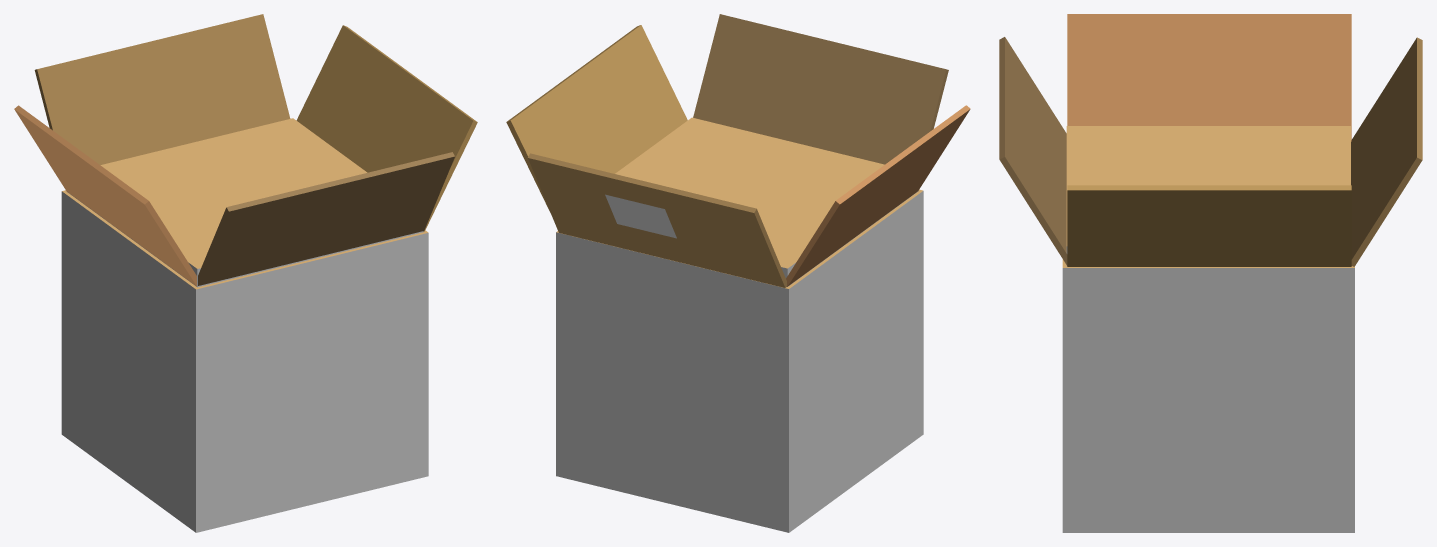
File: boxukrop.fbx
The picture shows the model from 3 angles, left to right: view 1: azimuth 30°, elevation 25°; view 2: azimuth 150°, elevation 25°; view 3: azimuth 270°, elevation 25°; orthographic projection. The views are drawn at different scales.
Visible parts, largest first — view 1: Cube, Куб.003, Cube.001, Куб.002, Куб, Куб.001; view 2: Cube, Куб.002, Cube.001, Куб.003, Куб, Куб.001, Плоскость; view 3: Cube, Куб.001, Куб, Cube.001, Куб.003, Куб.002.
Boxes of the visible parts, x1,y1,x2,y2 form: Cube: (61, 190, 428, 532); Куб.003: (34, 14, 290, 164); Cube.001: (67, 118, 423, 287); Куб.002: (198, 152, 454, 285); Куб: (296, 25, 477, 231); Куб.001: (14, 105, 196, 286); Cube: (556, 189, 923, 532); Куб.002: (693, 14, 948, 164); Cube.001: (615, 117, 918, 286); Куб.003: (528, 153, 786, 287); Куб: (506, 25, 687, 212); Куб.001: (786, 105, 970, 286); Плоскость: (605, 194, 676, 238); Cube: (1062, 259, 1354, 532); Куб.001: (1067, 14, 1351, 141); Куб: (1067, 185, 1351, 266); Cube.001: (1066, 126, 1350, 265); Куб.003: (1351, 37, 1422, 266); Куб.002: (999, 37, 1067, 265).
Size of the model in its own units: 1575 by 1556 by 1592.
